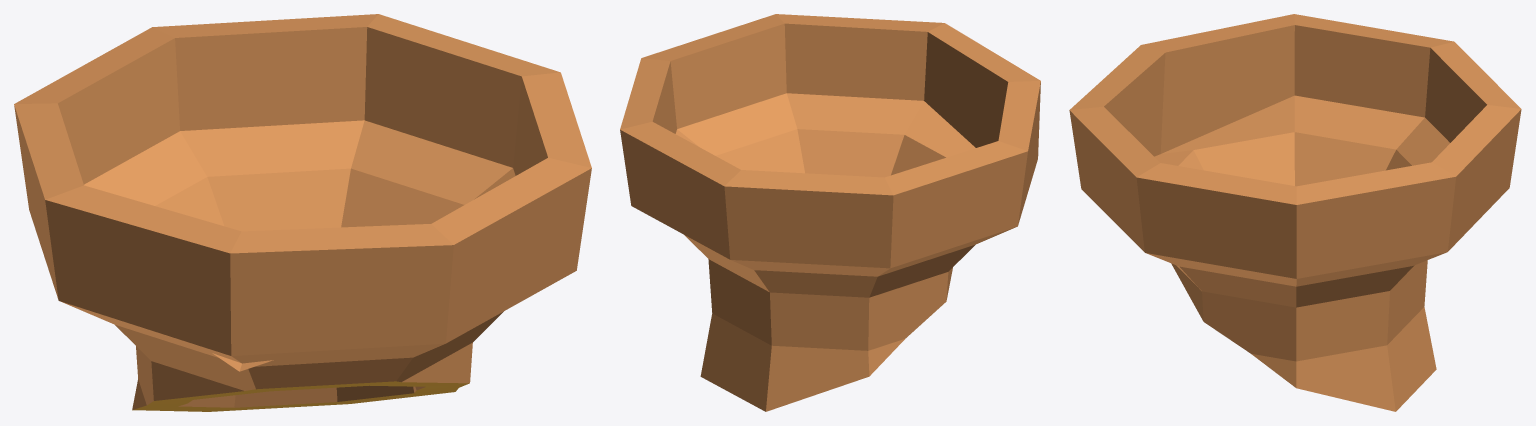
The picture shows the model from 3 angles, left to right: view 1: azimuth 30°, elevation 25°; view 2: azimuth 150°, elevation 25°; view 3: azimuth 270°, elevation 25°; orthographic projection. The views are drawn at different scales.
Parts seen in each view (by area): view 1: v_06; view 2: v_06; view 3: v_06.
Part boxes in pixels (box(x1,y1,x2,y2)): v_06: box(14, 14, 591, 411); v_06: box(620, 14, 1040, 411); v_06: box(1069, 14, 1521, 411).
Size of the model in its own units: 0.3925 by 0.2535 by 0.3925.
Materials: 1 (1 with a texture image).
